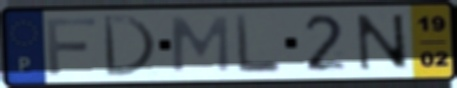2: (302, 12, 349, 73)
D: (99, 13, 160, 78)
F: (43, 16, 100, 78)
L: (232, 12, 284, 75)
M: (169, 14, 232, 75)
N: (353, 12, 412, 72)
